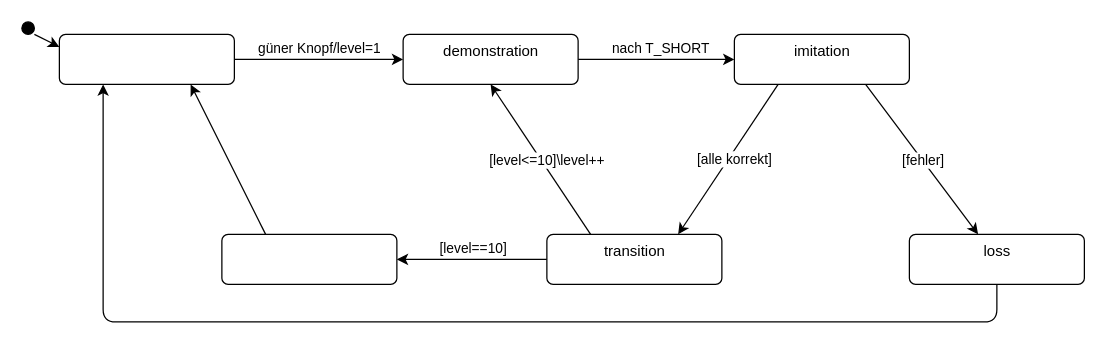
The diagram is 1106 pixels wide and 354 high, and some of its shapes have lost their labels. Each missing label, with the centre of its shape:
end: the point at 309,258
standby: the point at 146,58
